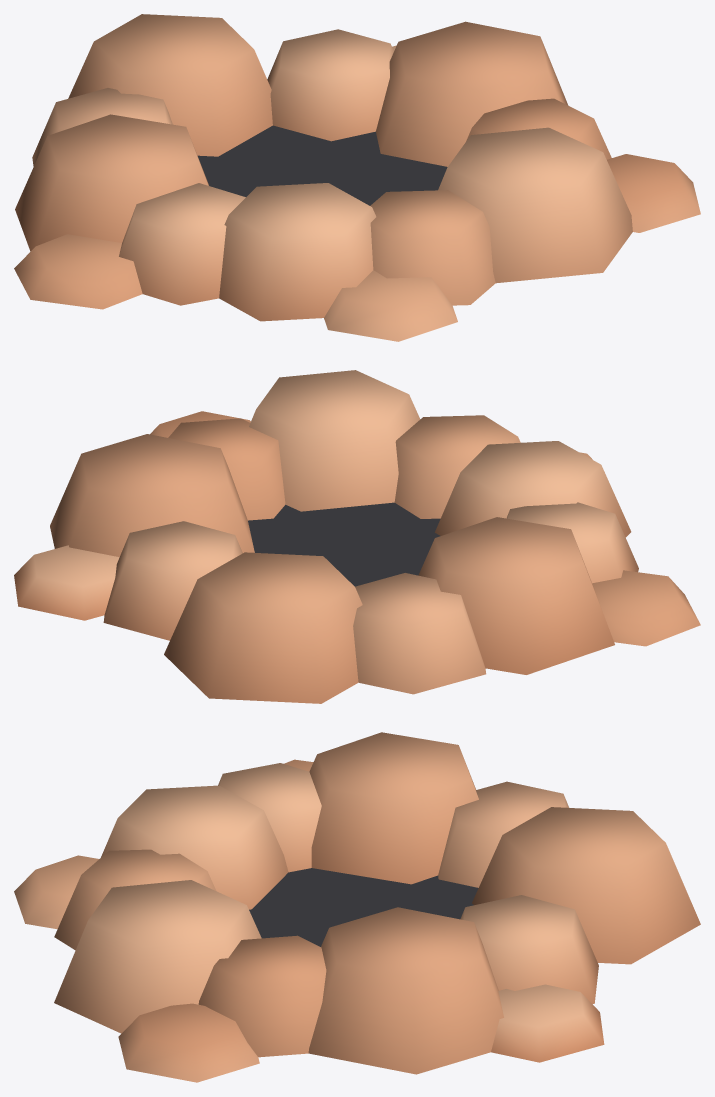
File: hole.glb
The picture shows the model from 3 angles, top to bottom: view 1: azimuth 30°, elevation 25°; view 2: azimuth 150°, elevation 25°; view 3: azimuth 270°, elevation 25°; orthographic projection. The views are drawn at different scales.
Visible parts, largest first — view 1: hole; view 2: hole; view 3: hole.
Boxes of the visible parts, x1,y1,x2,y2 form: hole: [14, 14, 700, 341]; hole: [14, 370, 700, 703]; hole: [14, 732, 700, 1082].
Bounding box in the file's own units: 2.86 × 0.3541 × 2.7.
1 material, 1 textured.
